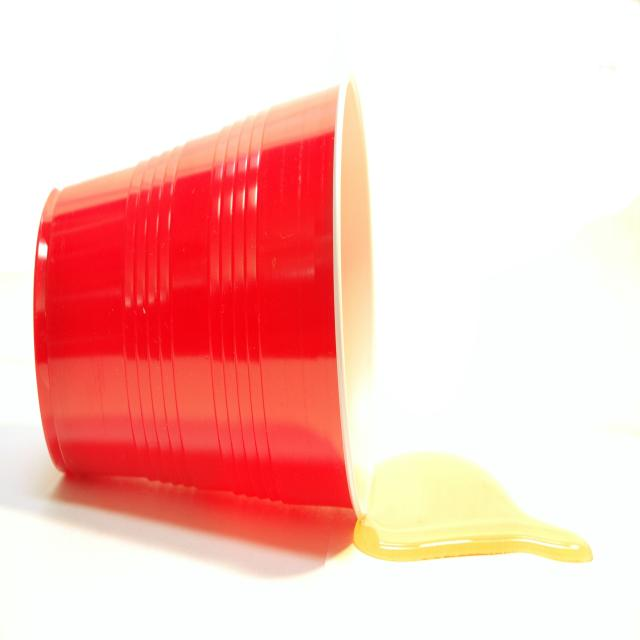Plastic: (0, 78, 379, 562)
